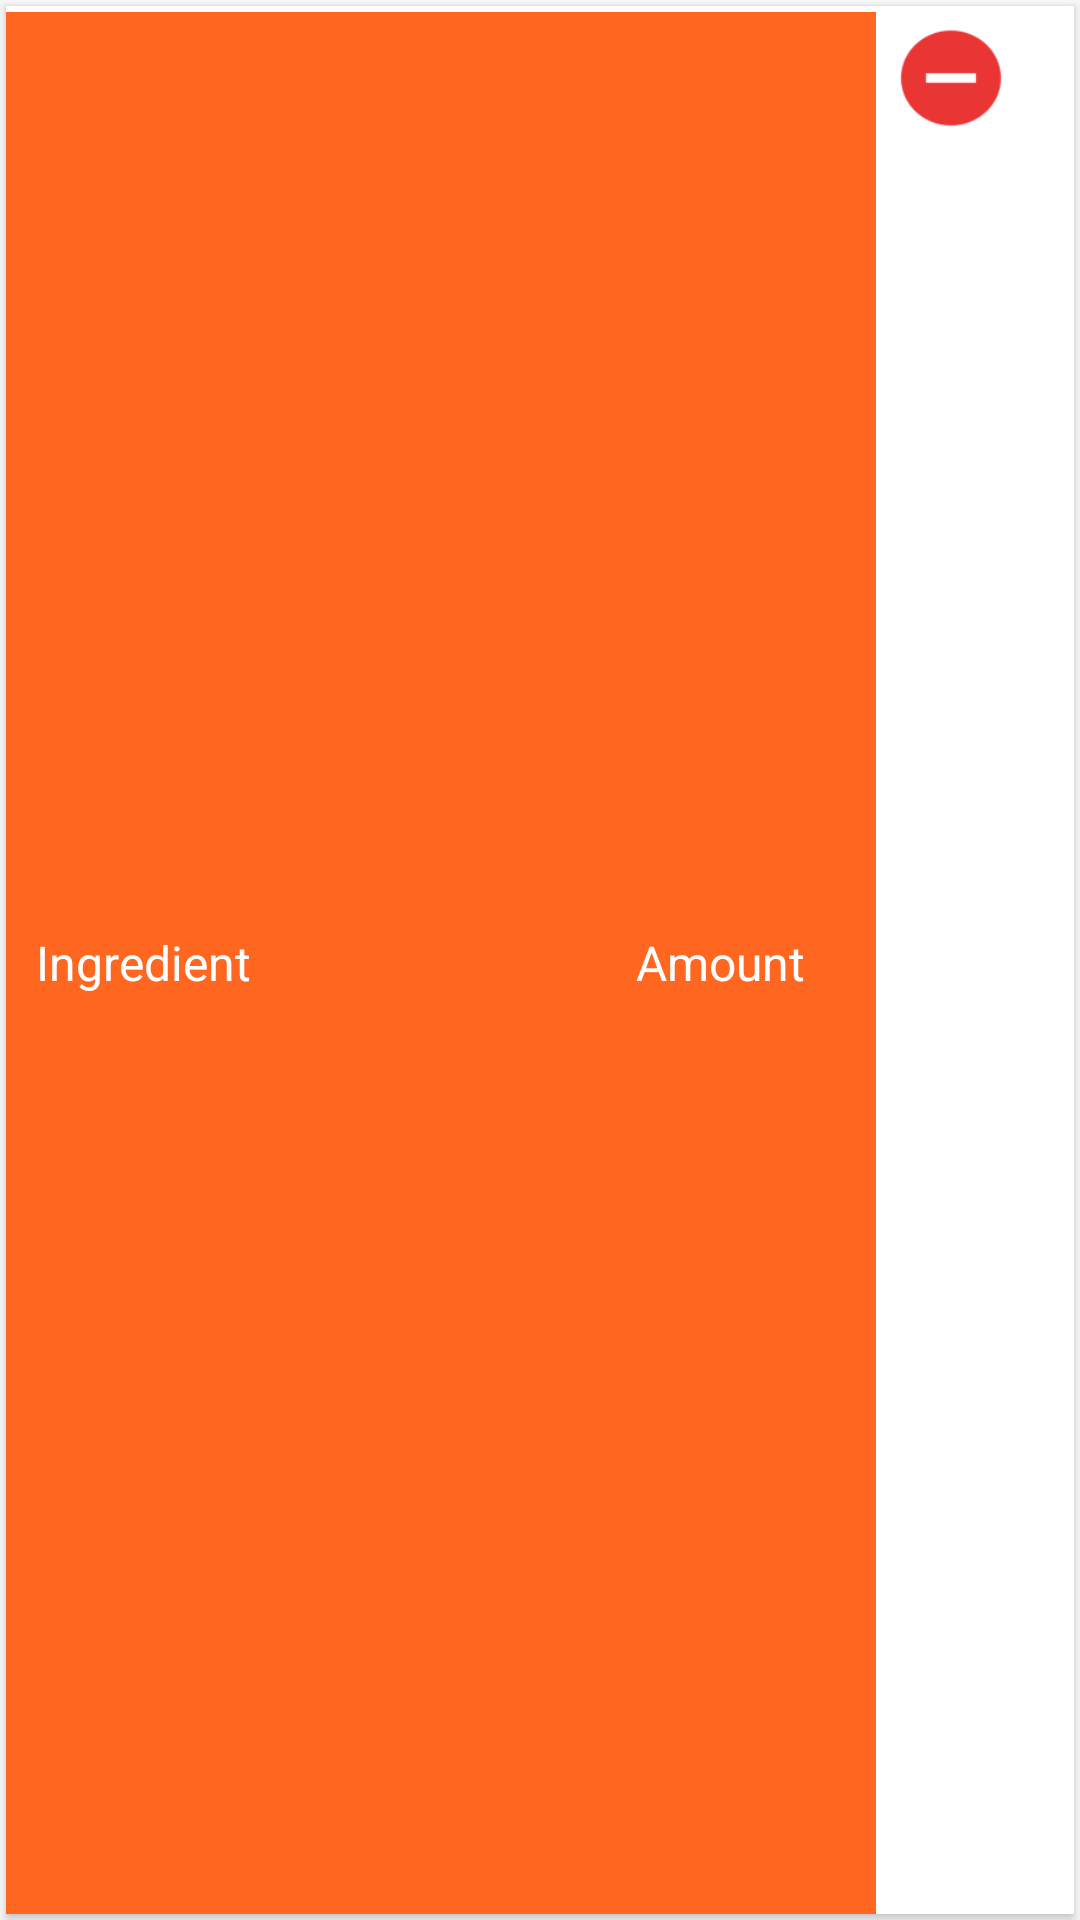

Screen size 1080px x 1920px. Icon name, then its box in pixels as box=[x1, y1, x2, y2]:
remove circle: box=[900, 30, 1002, 126]
